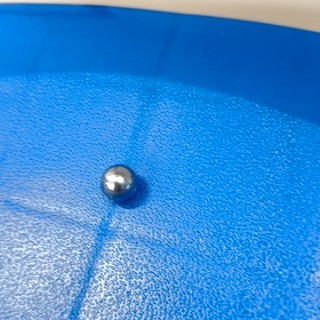ironball: (94, 155, 140, 204)
